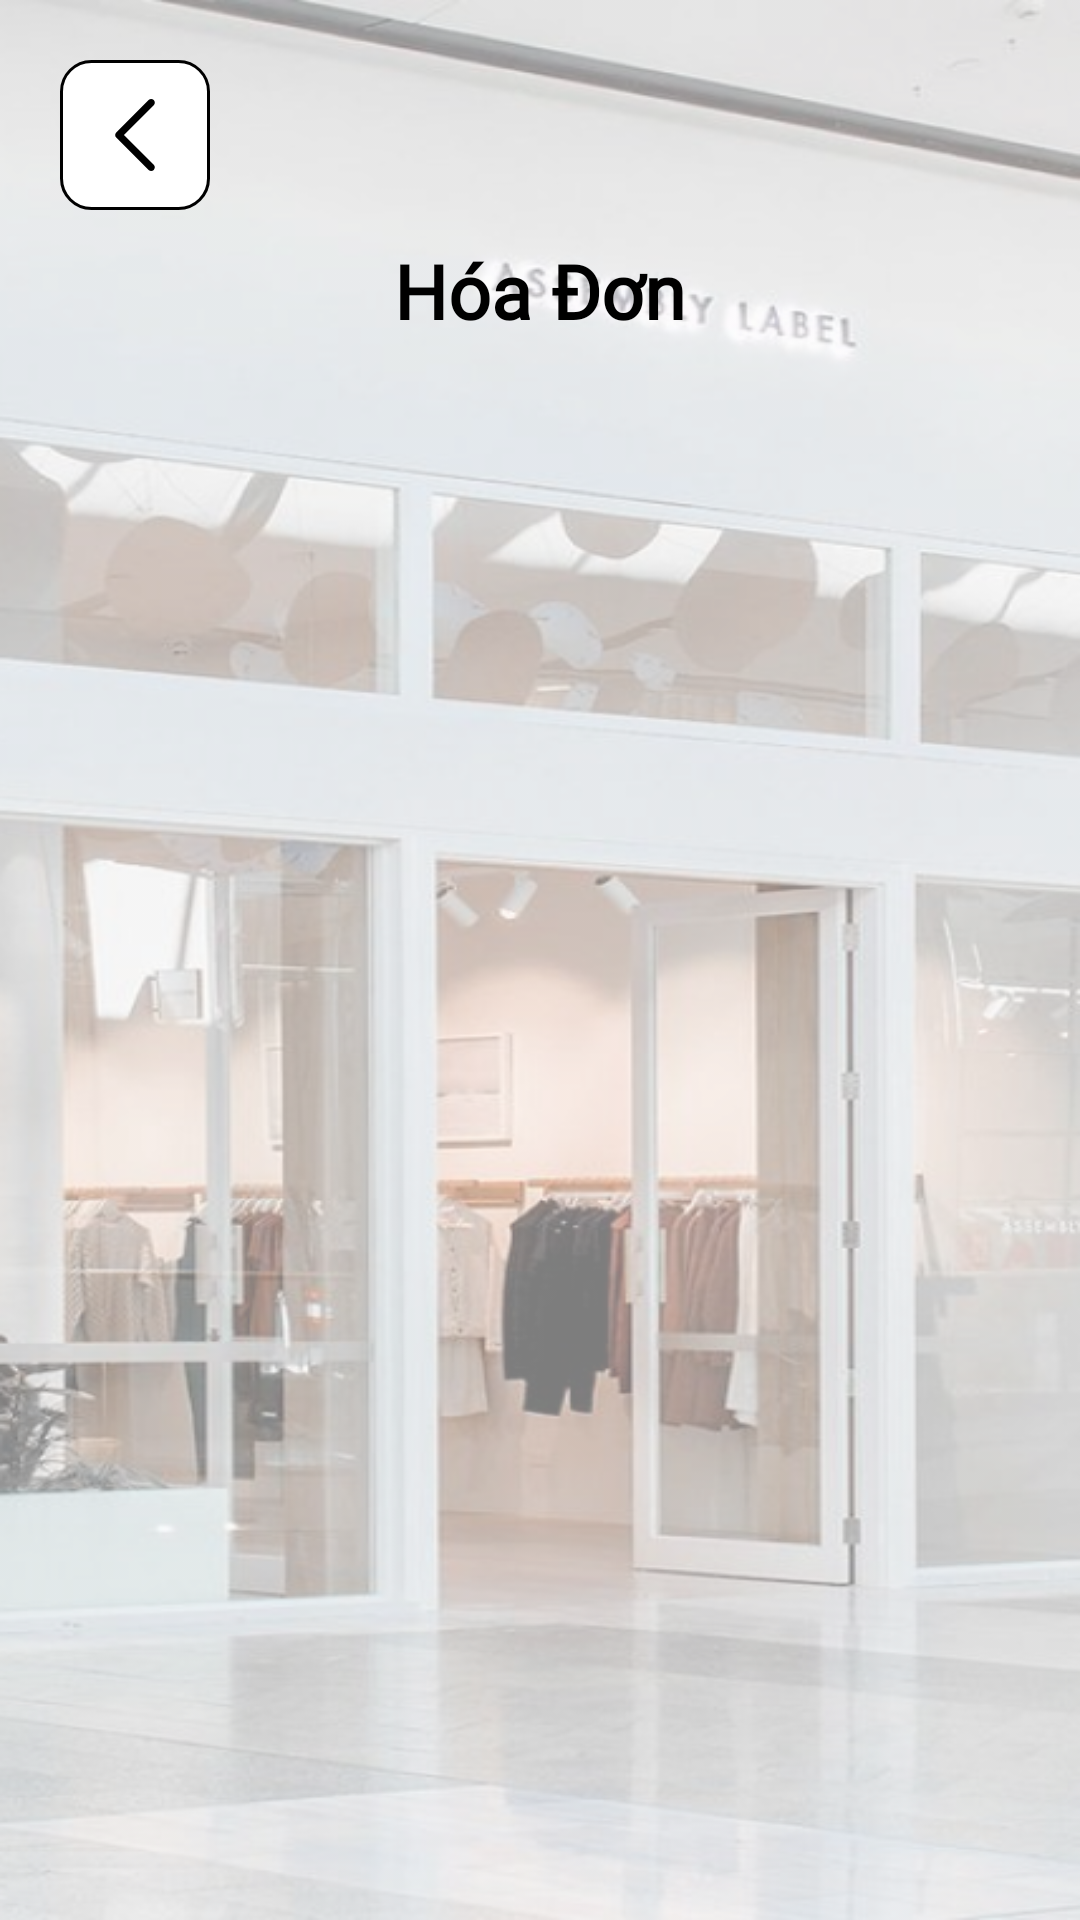

Named icons in this screenshot (1080px x 1920px) and their centers, (x=x, y=y):
back: (x=135, y=135)
